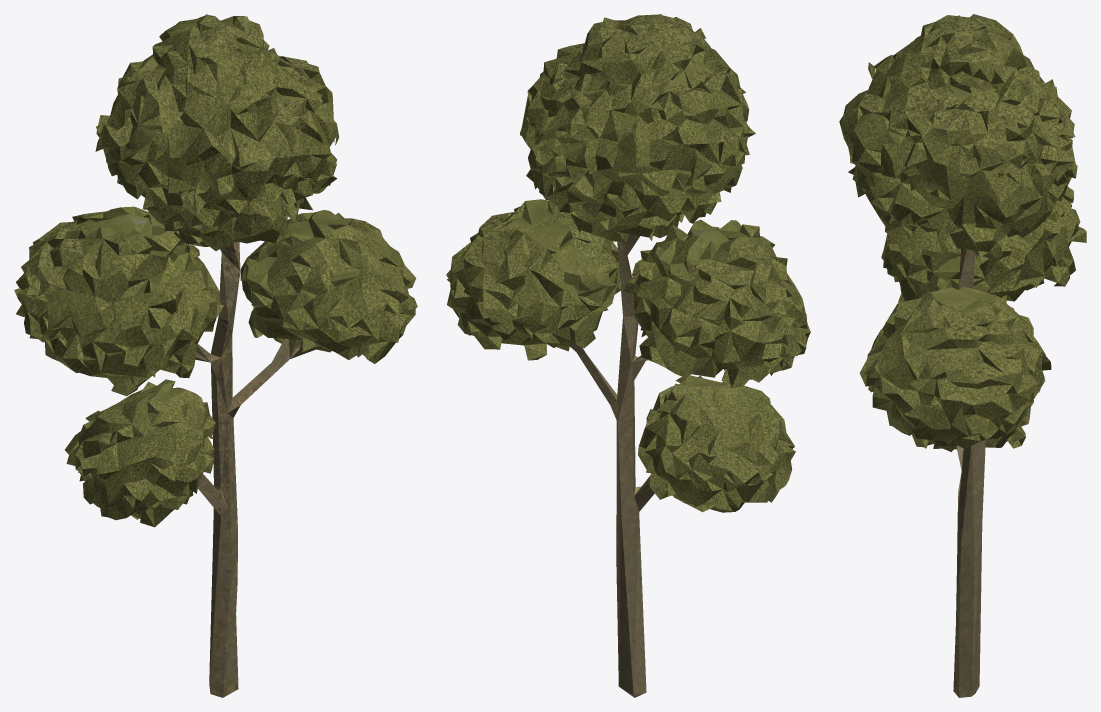
The model's file is arbol_joven.glb.
The picture shows the model from 3 angles, left to right: view 1: azimuth 30°, elevation 25°; view 2: azimuth 150°, elevation 25°; view 3: azimuth 270°, elevation 25°; orthographic projection.
Size of the model in its own units: 1.06 by 1.9 by 0.6364.
1 material, 1 textured.
